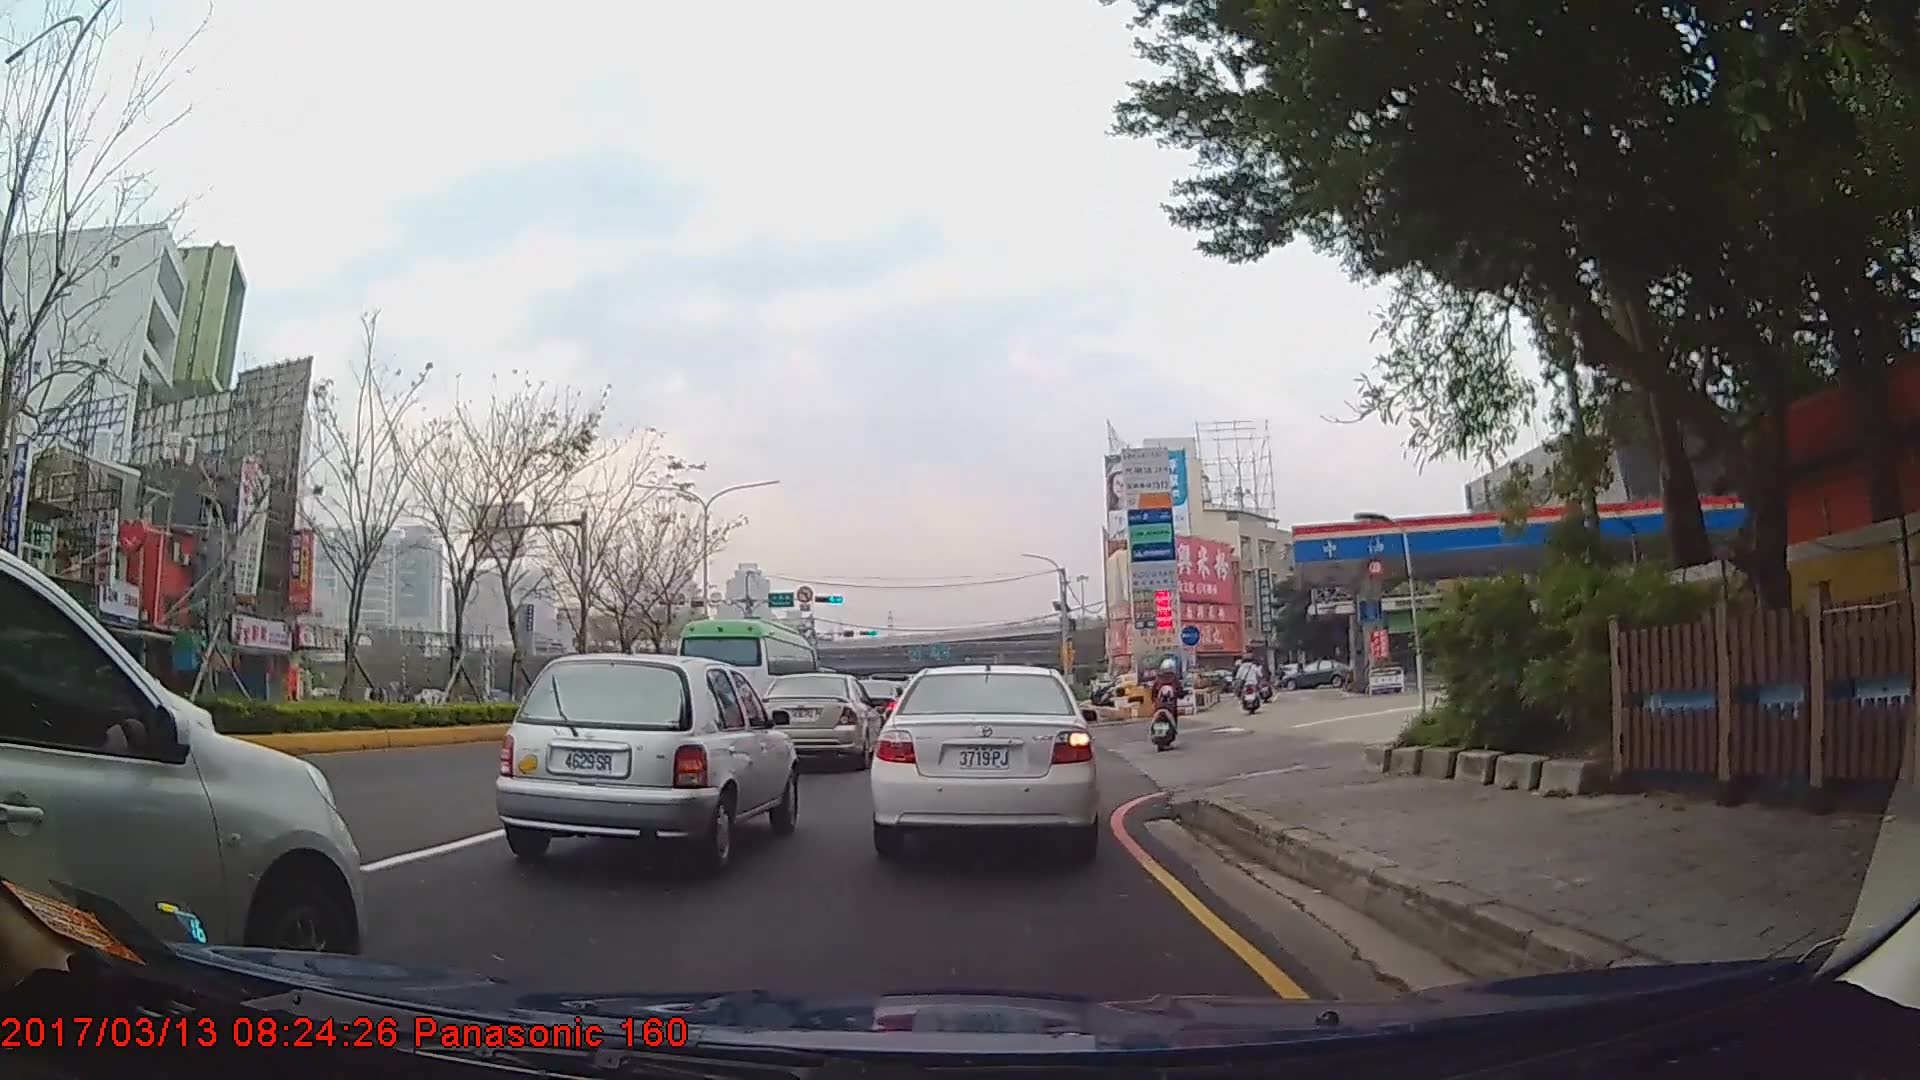rider: (1152, 661, 1186, 756), (1236, 654, 1265, 716)
vehicle: (0, 548, 368, 990), (497, 653, 801, 872), (868, 660, 1099, 863), (671, 615, 818, 732), (752, 671, 880, 767), (1283, 659, 1353, 689)
